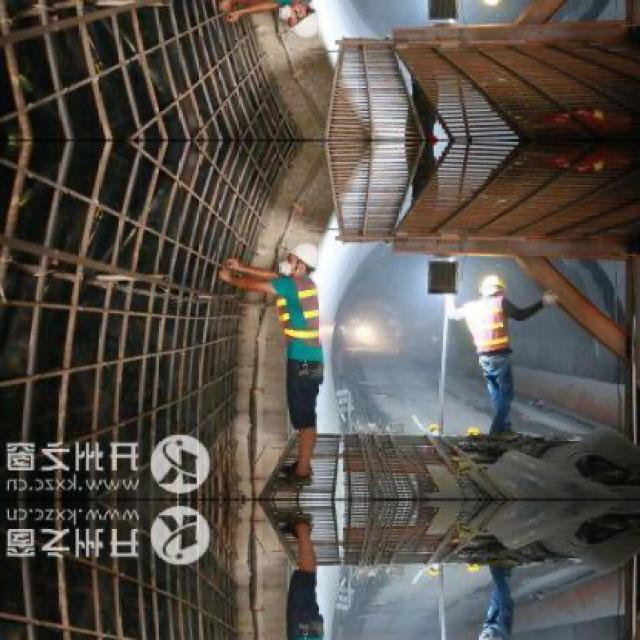helmet: (280, 1, 322, 42), (280, 239, 322, 279), (478, 272, 509, 306), (477, 0, 509, 11)
